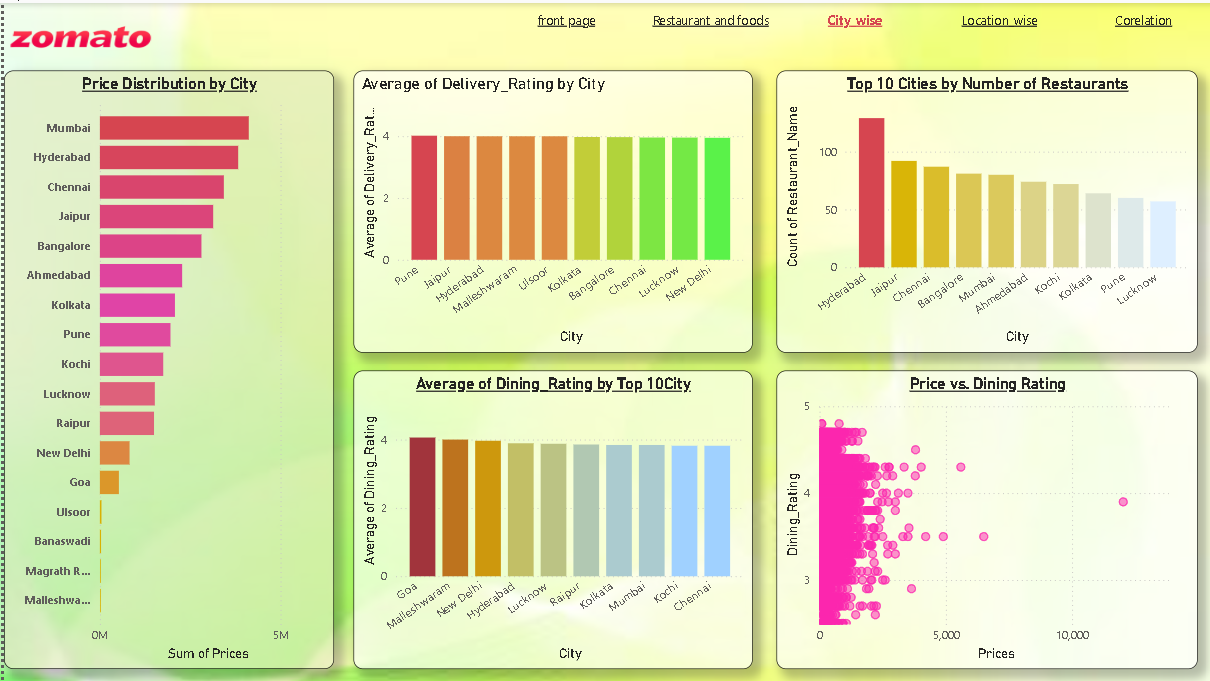

The dashboard page shown, as its layout file describes it:
{"tool":"powerbi","page":{"name":"City_wise","canvas":[1280,720],"ordinal":2},"visuals":[{"type":"clusteredColumnChart","title":"Top 10 Cities by Number of Restaurants","fields":{"Category":["zomato_dataset.City"],"Y":["Count(zomato_dataset.Restaurant_Name)"]},"box":[819.2,71.6,447,299],"z":0},{"type":"clusteredColumnChart","title":"Average of Dining_Rating by Top 10City","fields":{"Category":["zomato_dataset.City"],"Y":["Avg(zomato_dataset.Dining_Rating)"]},"box":[370.6,389.7,423.1,316.5],"z":1000},{"type":"scatterChart","title":"Price vs. Dining Rating","fields":{"X":["zomato_dataset.Prices"],"Y":["zomato_dataset.Dining_Rating"]},"box":[819.2,389.7,447,316.5],"z":2000},{"type":"clusteredBarChart","title":" Price Distribution by City","fields":{"Category":["zomato_dataset.City"],"Y":["Sum(zomato_dataset.Prices)"]},"box":[0,71.6,349.9,634.7],"z":3000},{"type":"clusteredColumnChart","fields":{"Category":["zomato_dataset.City"],"Y":["Avg(zomato_dataset.Delivery_Rating)"]},"box":[370.6,71.6,423.1,299],"z":4000},{"type":"pageNavigator","box":[524.5,0,755.5,35],"z":5000},{"type":"image","box":[0,0,162.2,71.6],"z":6000}]}

Visuals, with their boxes in screenshot pixels (x1, y1, x2, y2), scaled from the page's 1280x720 canvas onto the 1210x681 screenshot:
"Top 10 Cities by Number of Restaurants" clusteredColumnChart: 774:68:1197:351
"Average of Dining_Rating by Top 10City" clusteredColumnChart: 350:369:750:668
"Price vs. Dining Rating" scatterChart: 774:369:1197:668
" Price Distribution by City" clusteredBarChart: 0:68:331:668
clusteredColumnChart - zomato_dataset.City x Avg(zomato_dataset.Delivery_Rating): 350:68:750:351
pageNavigator: 496:0:1209:33
image: 0:0:153:68
